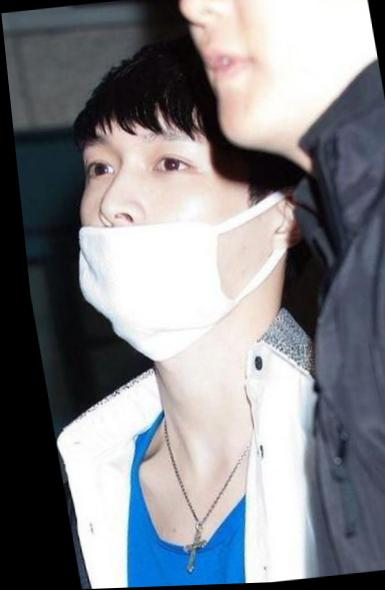NONE: (177, 1, 385, 160)
WRONG: (54, 125, 282, 355)
